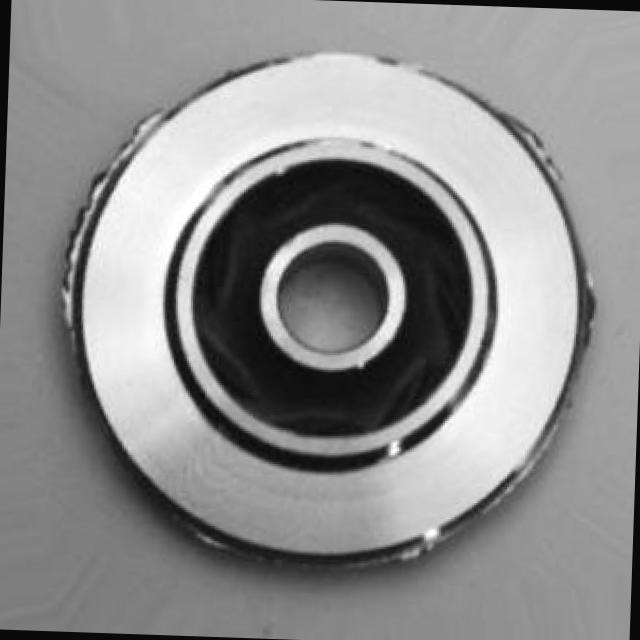Defect: (572, 257, 609, 358)
